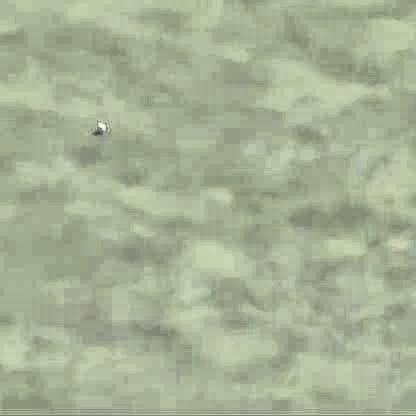golfball: (92, 118, 105, 131)
